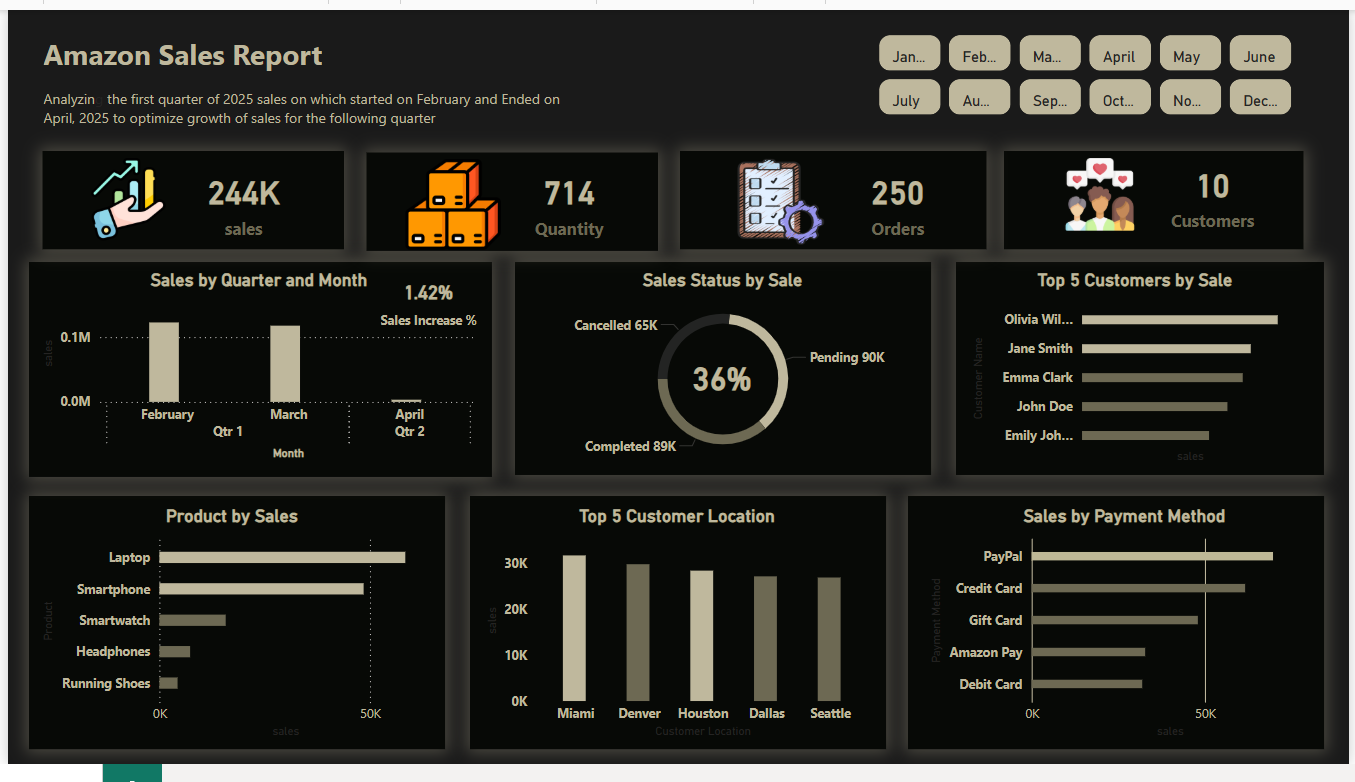

The dashboard page shown, as its layout file describes it:
{"tool":"powerbi","page":{"name":"Page 1","canvas":[1280,720],"ordinal":0},"visuals":[{"type":"shape","box":[858.9,464.5,397.7,241.8],"z":0},{"type":"shape","box":[440.6,464.5,397.7,241.8],"z":1000},{"type":"shape","box":[20.7,464.5,397.7,241.8],"z":2000},{"type":"shape","box":[483.5,240.2,397.7,203.6],"z":3000},{"type":"shape","box":[20.7,240.2,442.2,205.2],"z":4000},{"type":"shape","box":[905.1,240.2,351.5,203.6],"z":5000},{"type":"shape","box":[951.2,135.2,286.3,93.8],"z":6000},{"type":"shape","box":[33.4,135.2,287.9,93.8],"z":7000},{"type":"shape","box":[342,136.8,278.4,93.8],"z":8000},{"type":"shape","box":[641,135.2,292.7,93.8],"z":9000},{"type":"clusteredBarChart","title":"Sales by Payment Method","fields":{"Category":["amazon_sales_data 2025.Payment Method"],"Y":["amazon_sales_data 2025.sales"]},"box":[874.8,472.4,381.7,225.9],"z":10000},{"type":"columnChart","title":"Top 5 Customer Location","fields":{"Category":["amazon_sales_data 2025.Customer Location"],"Y":["amazon_sales_data 2025.sales"]},"box":[451.7,472.4,375.4,225.9],"z":11000},{"type":"clusteredBarChart","title":" Product by Sales","fields":{"Category":["amazon_sales_data 2025.Product"],"Y":["amazon_sales_data 2025.sales"]},"box":[27.8,472.6,373.3,226.4],"z":12000},{"type":"clusteredBarChart","title":"Top 5 Customers by Sale","fields":{"Category":["amazon_sales_data 2025.Customer Name"],"Y":["amazon_sales_data 2025.sales"]},"box":[915.3,248.2,321.7,188.6],"z":13000},{"type":"donutChart","title":"Sales Status by Sale","fields":{"Category":["amazon_sales_data 2025.Status"],"Y":["amazon_sales_data 2025.sales"]},"box":[489.9,248.1,384.9,189.3],"z":14000},{"type":"card","fields":{"Values":["amazon_sales_data 2025.Completed status"]},"box":[634.7,299,93.8,100.2],"z":15000},{"type":"columnChart","title":"Sales by Quarter and Month","fields":{"Category":["amazon_sales_data 2025.Date.Variation.Date Hierarchy.Quarter","amazon_sales_data 2025.Date.Variation.Date Hierarchy.Month"],"Y":["amazon_sales_data 2025.sales"]},"box":[27,248.1,424.7,186.1],"z":16000},{"type":"card","fields":{"Values":["amazon_sales_data 2025.Sales Increase %"]},"box":[349.9,248.1,103.4,60.4],"z":17000},{"type":"advancedSlicerVisual","fields":{"Values":["amazon_sales_data 2025.Date.Variation.Date Hierarchy.Month"]},"box":[827.1,19.1,407.2,87.5],"z":18000},{"type":"card","fields":{"Values":["amazon_sales_data 2025.sales"]},"box":[140,143.2,168.6,79.5],"z":19000},{"type":"card","fields":{"Values":["amazon_sales_data 2025.Quantity"]},"box":[451.7,143.2,168.6,79.5],"z":20000},{"type":"card","fields":{"Values":["amazon_sales_data 2025.Orders"]},"box":[765.1,143.2,168.6,79.5],"z":21000},{"type":"card","fields":{"Values":["amazon_sales_data 2025.Customers"]},"box":[1065.7,136.8,168.6,79.5],"z":22000},{"type":"textbox","box":[28.6,19.1,299,50.9],"z":23000},{"type":"textbox","box":[28.6,70,536,50.9],"z":24000},{"type":"image","box":[973.5,136.8,136.8,79.5],"z":25000},{"type":"image","box":[687.1,136.8,100.2,93.8],"z":26000},{"type":"image","box":[367.4,135.2,114.5,101.8],"z":27000},{"type":"image","box":[50.9,136.8,127.2,89.1],"z":28000}]}

Visuals, with their boxes in screenshot pixels (x1, y1, x2, y2), scaled from the page's 1280x720 canvas onto the 1355x782 screenshot:
shape: {"left": 909, "top": 504, "right": 1330, "bottom": 767}
shape: {"left": 466, "top": 504, "right": 887, "bottom": 767}
shape: {"left": 22, "top": 504, "right": 443, "bottom": 767}
shape: {"left": 512, "top": 261, "right": 933, "bottom": 482}
shape: {"left": 22, "top": 261, "right": 490, "bottom": 484}
shape: {"left": 958, "top": 261, "right": 1330, "bottom": 482}
shape: {"left": 1007, "top": 147, "right": 1310, "bottom": 249}
shape: {"left": 35, "top": 147, "right": 340, "bottom": 249}
shape: {"left": 362, "top": 149, "right": 657, "bottom": 250}
shape: {"left": 679, "top": 147, "right": 988, "bottom": 249}
"Sales by Payment Method" clusteredBarChart: {"left": 926, "top": 513, "right": 1330, "bottom": 758}
"Top 5 Customer Location" columnChart: {"left": 478, "top": 513, "right": 876, "bottom": 758}
" Product by Sales" clusteredBarChart: {"left": 29, "top": 513, "right": 425, "bottom": 759}
"Top 5 Customers by Sale" clusteredBarChart: {"left": 969, "top": 270, "right": 1309, "bottom": 474}
"Sales Status by Sale" donutChart: {"left": 519, "top": 269, "right": 926, "bottom": 475}
card - amazon_sales_data 2025.Completed status: {"left": 672, "top": 325, "right": 771, "bottom": 434}
"Sales by Quarter and Month" columnChart: {"left": 29, "top": 269, "right": 478, "bottom": 472}
card - amazon_sales_data 2025.Sales Increase %: {"left": 370, "top": 269, "right": 480, "bottom": 335}
advancedSlicerVisual - amazon_sales_data 2025.Date.Variation.Date Hierarchy.Month: {"left": 876, "top": 21, "right": 1307, "bottom": 116}
card - amazon_sales_data 2025.sales: {"left": 148, "top": 156, "right": 327, "bottom": 242}
card - amazon_sales_data 2025.Quantity: {"left": 478, "top": 156, "right": 657, "bottom": 242}
card - amazon_sales_data 2025.Orders: {"left": 810, "top": 156, "right": 988, "bottom": 242}
card - amazon_sales_data 2025.Customers: {"left": 1128, "top": 149, "right": 1307, "bottom": 235}
textbox: {"left": 30, "top": 21, "right": 347, "bottom": 76}
textbox: {"left": 30, "top": 76, "right": 598, "bottom": 131}
image: {"left": 1031, "top": 149, "right": 1175, "bottom": 235}
image: {"left": 727, "top": 149, "right": 833, "bottom": 250}
image: {"left": 389, "top": 147, "right": 510, "bottom": 257}
image: {"left": 54, "top": 149, "right": 189, "bottom": 245}
